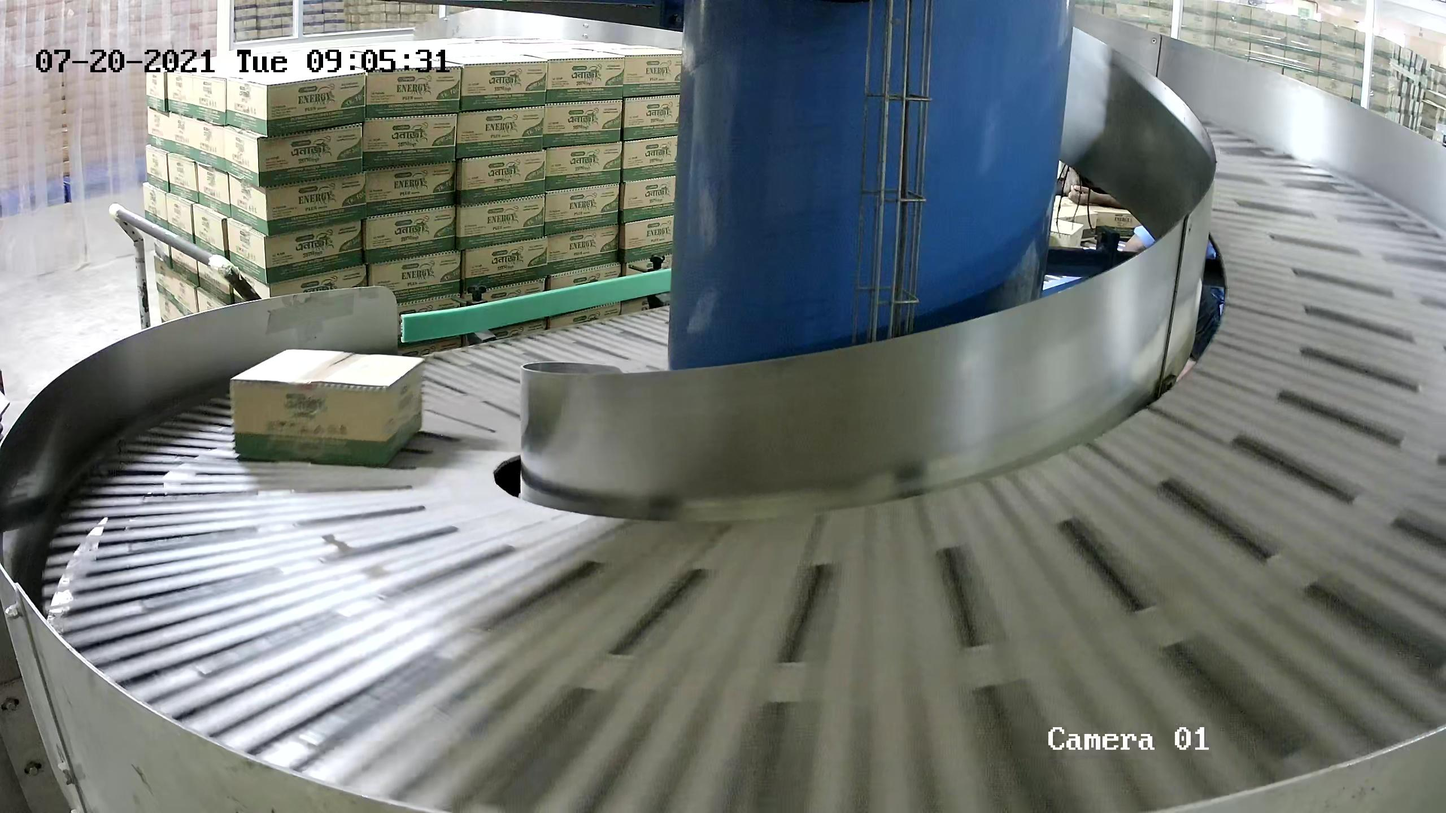Box: (228, 346, 426, 469)
